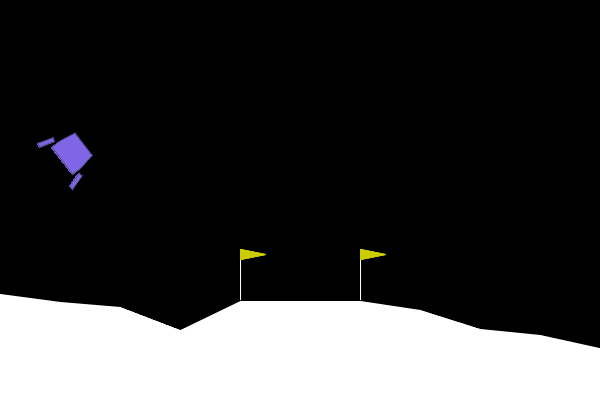lander: (35, 120, 103, 192)
